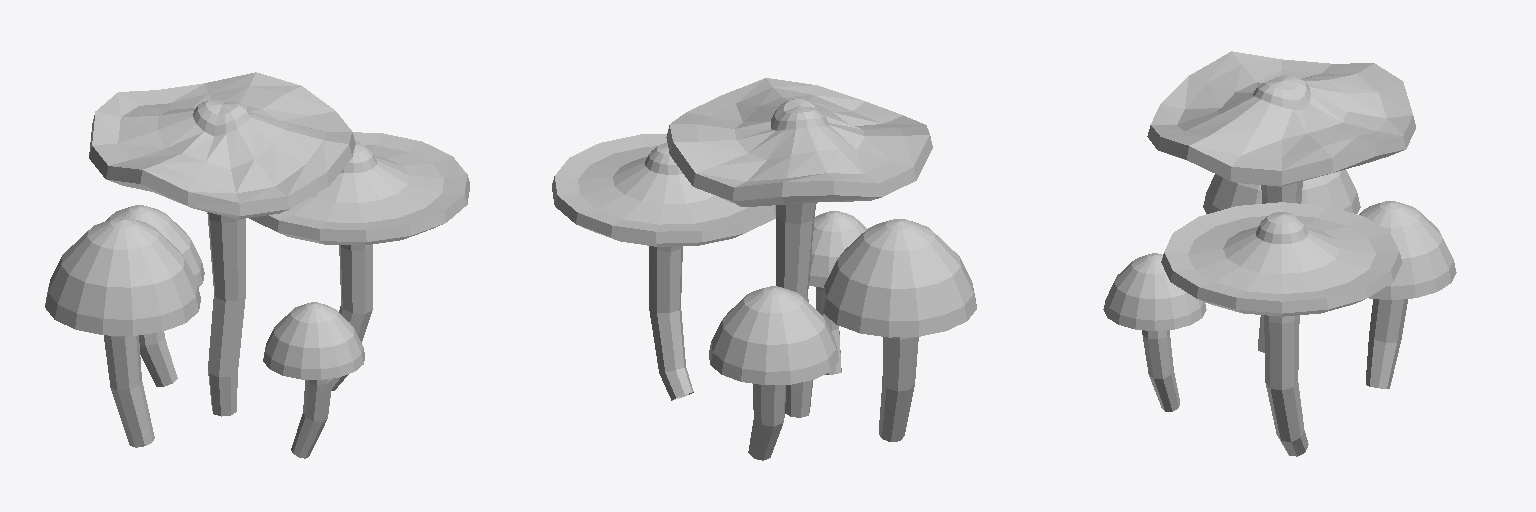
Rendered from shroom.obj.
3 views of the same model, side by side, from view 1: azimuth 30°, elevation 25°; view 2: azimuth 150°, elevation 25°; view 3: azimuth 270°, elevation 25° (orthographic).
Visible parts, largest first — view 1: Hygrocybe_punicea; view 2: Hygrocybe_punicea; view 3: Hygrocybe_punicea.
Boxes of the visible parts, <box> form: Hygrocybe_punicea: <box>45,72,469,458</box>; Hygrocybe_punicea: <box>552,78,976,460</box>; Hygrocybe_punicea: <box>1103,51,1456,456</box>.
Bounding box in the file's own units: 1.41 × 1.07 × 1.08.